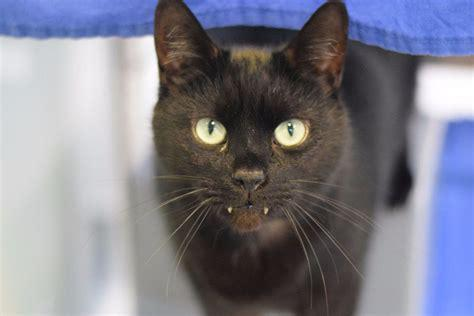cat: (154, 1, 411, 316)
